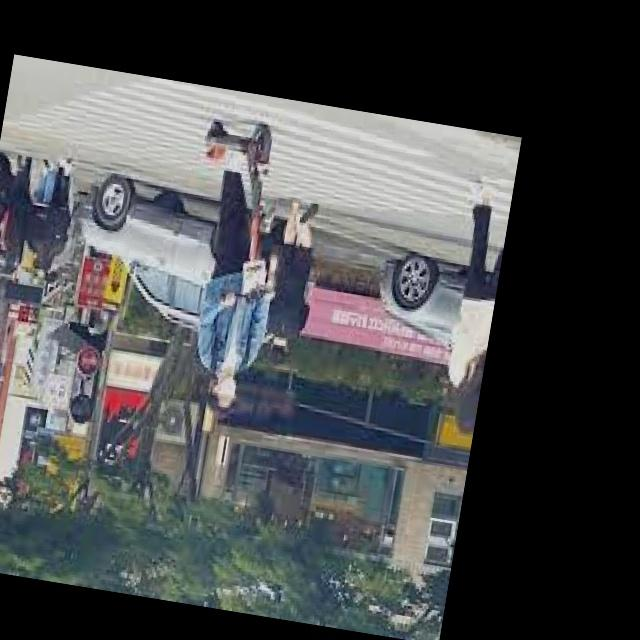bare_head: (194, 361, 245, 412)
human: (187, 156, 276, 388)
kickboard: (199, 100, 319, 170)
